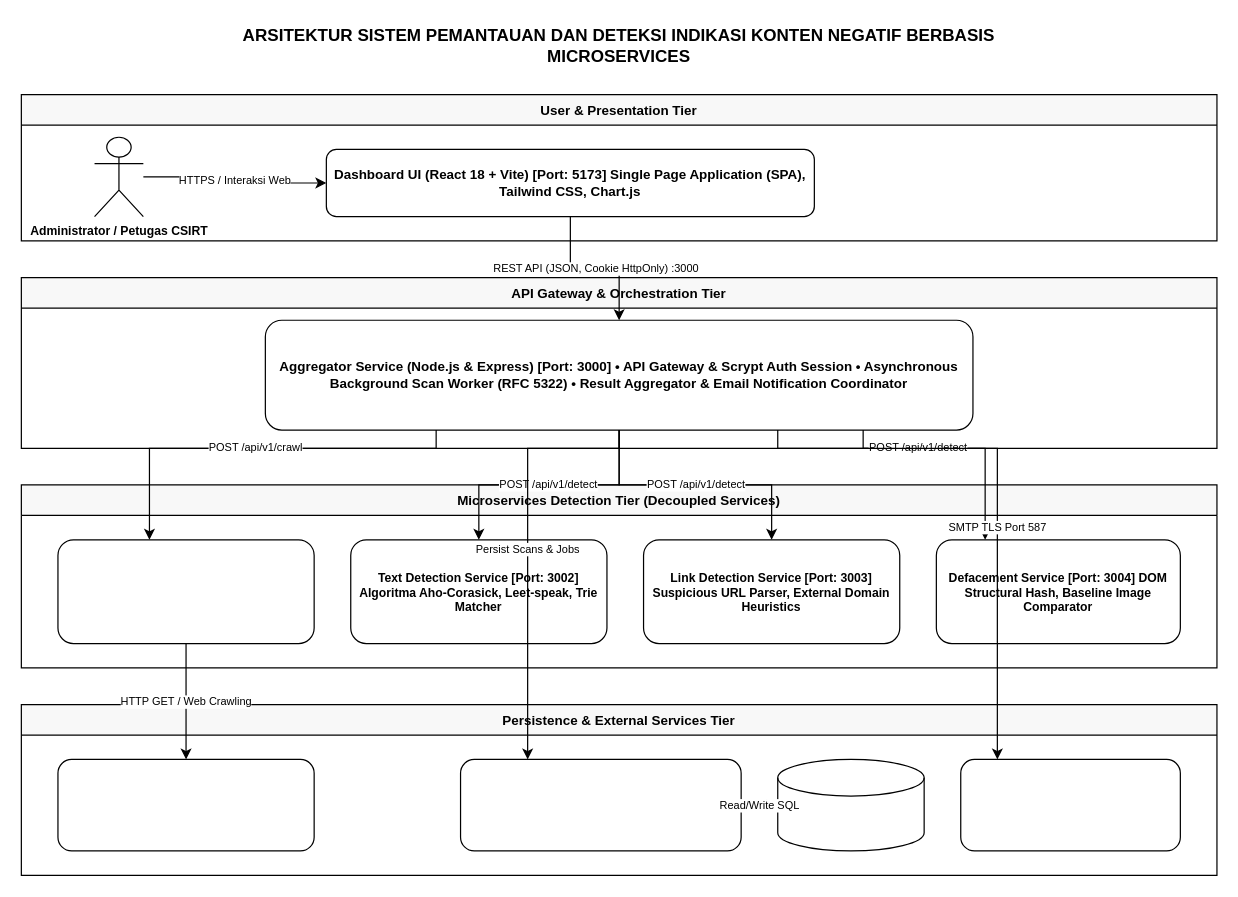
Some shapes in this 1238 by 897 pixel diagram are drawn without their labels. Each missing label, with the centre of its shape:
"Basis Data SQLite (scans.db)" belongs at point (850, 804).
"Crawler Service [Port: 3001] Axios, Cheerio Parser, BFS Queue, robots.txt" belongs at point (185, 591).
"Data Access Package (@content-detection/data-access) Scans, Jobs, Baselines" belongs at point (600, 804).
"Situs Web Pemerintah Kabupaten Sumbawa (*.sumbawakab.go.id)" belongs at point (185, 804).
"SMTP Server (Gmail) [smtp.gmail.com:587] TLS / RFC 2822 Mail" belongs at point (1070, 804).
